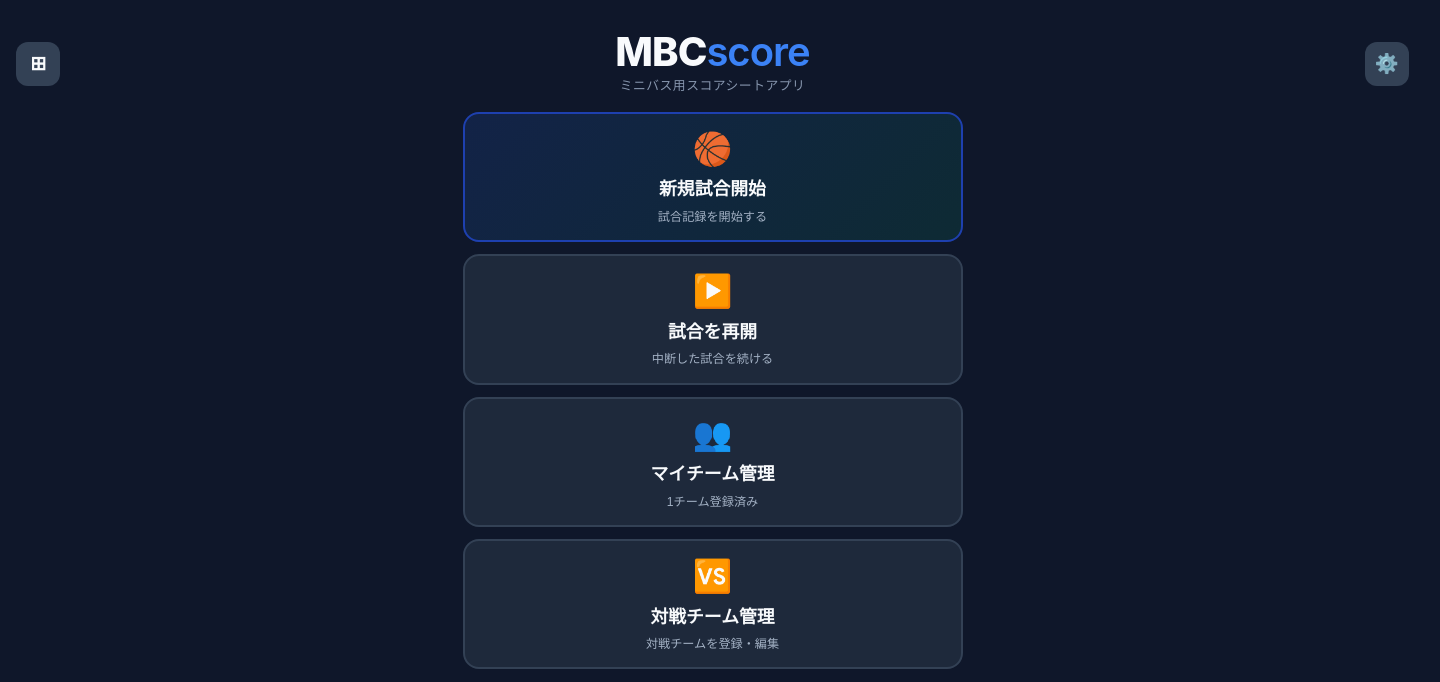
FT入力中の中断（App 通し） › ベンチファウルの入力からでも交代モーダルが上に重なる
This screenshot has width=1440, height=682.
Click the text "試合を再開": (713, 330) [668,317,757,343]
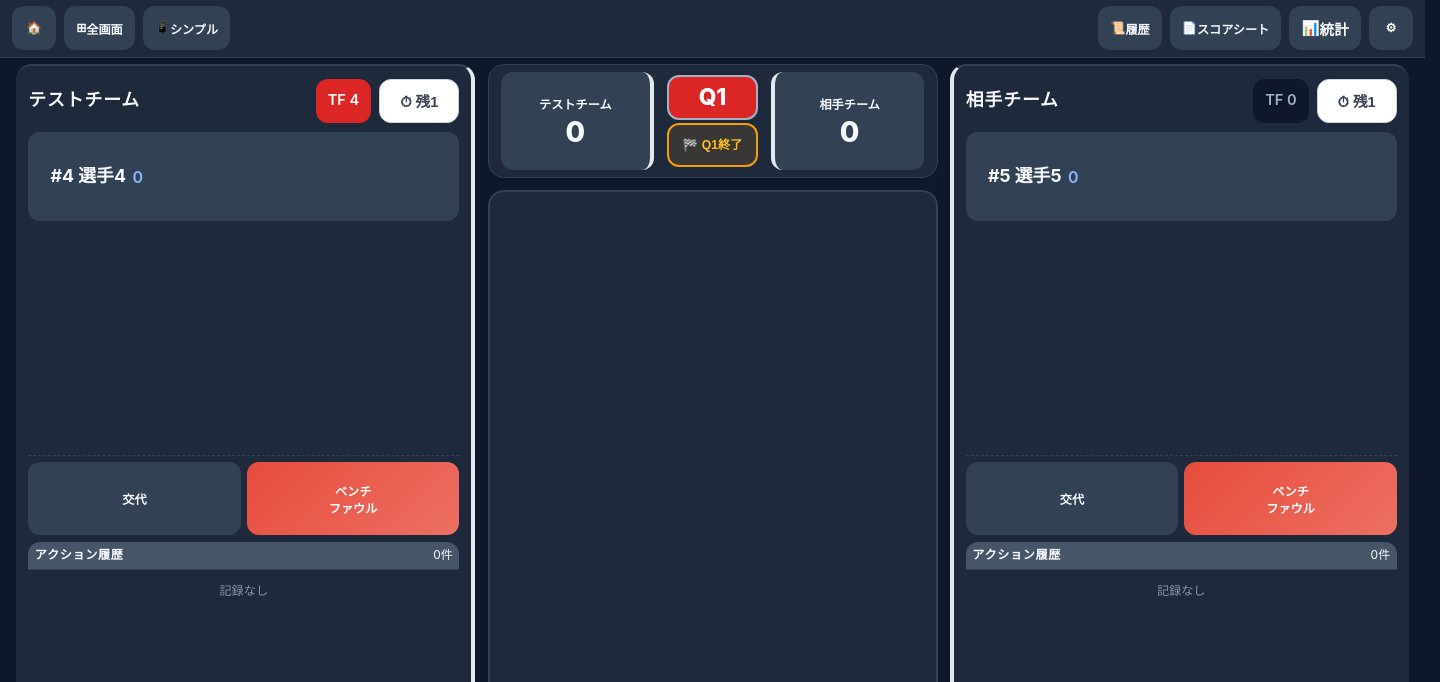
Click the 1st button "ベンチファウル": (353, 499) [247,462,459,535]
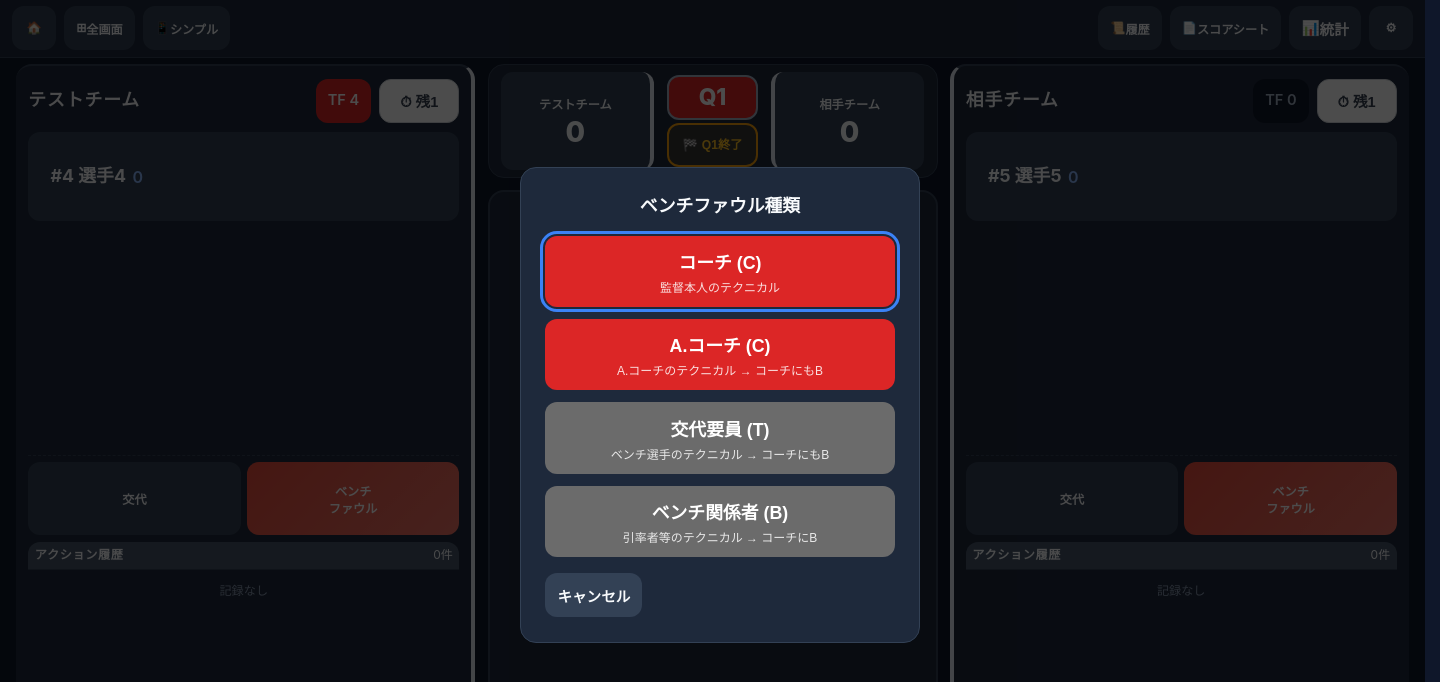
Click the button "コーチ (C) 監督本人のテクニカル": (720, 271) [545,236,895,307]
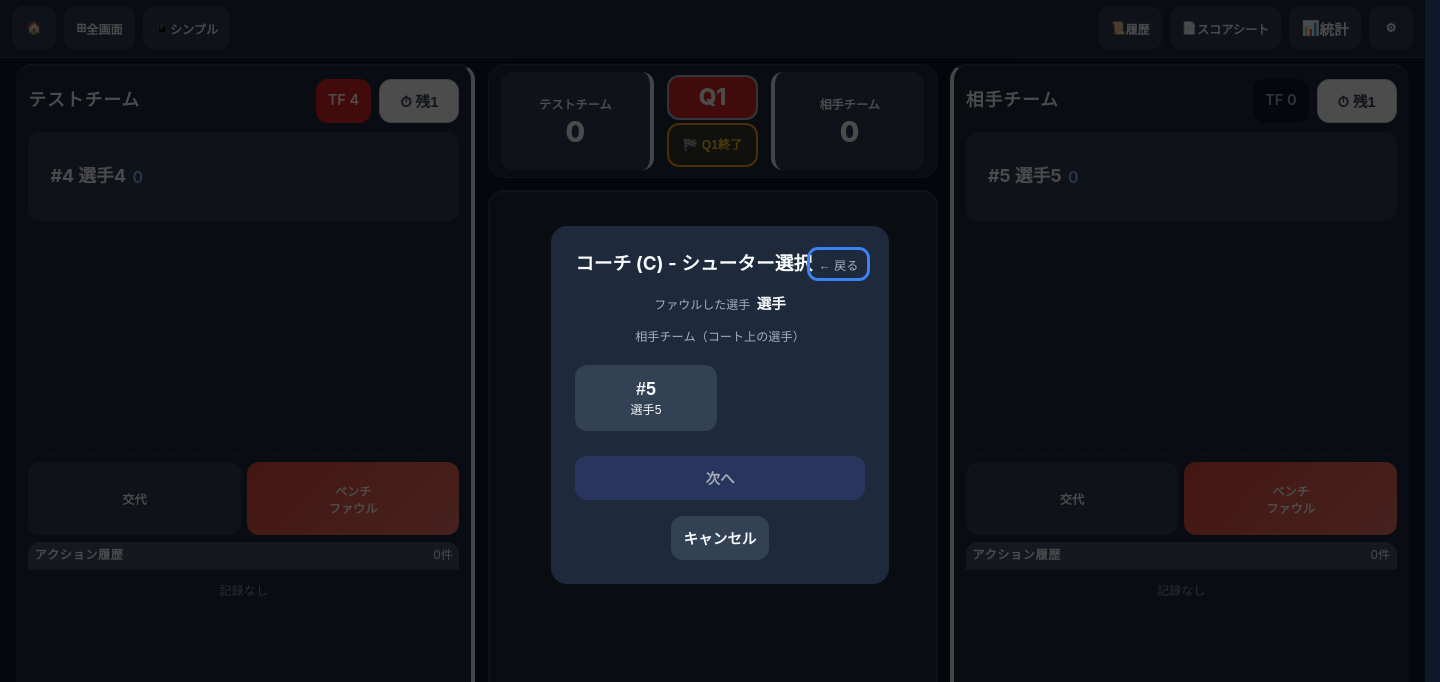
Click the text "選手5": (646, 409) [630,400,661,417]
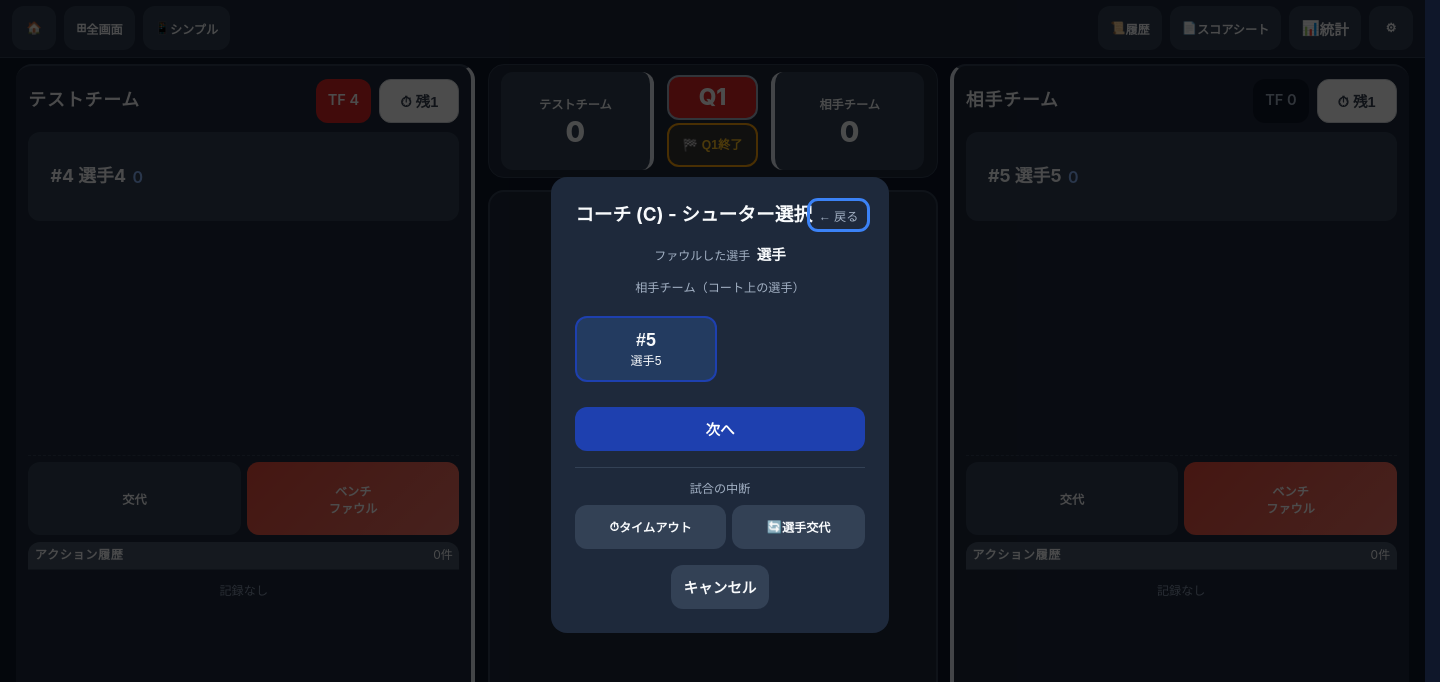
Now the text "試合の中断" is shown, box [690,481,750,496]
Click the button "🔄 選手交代": (799, 527) [732,505,865,549]
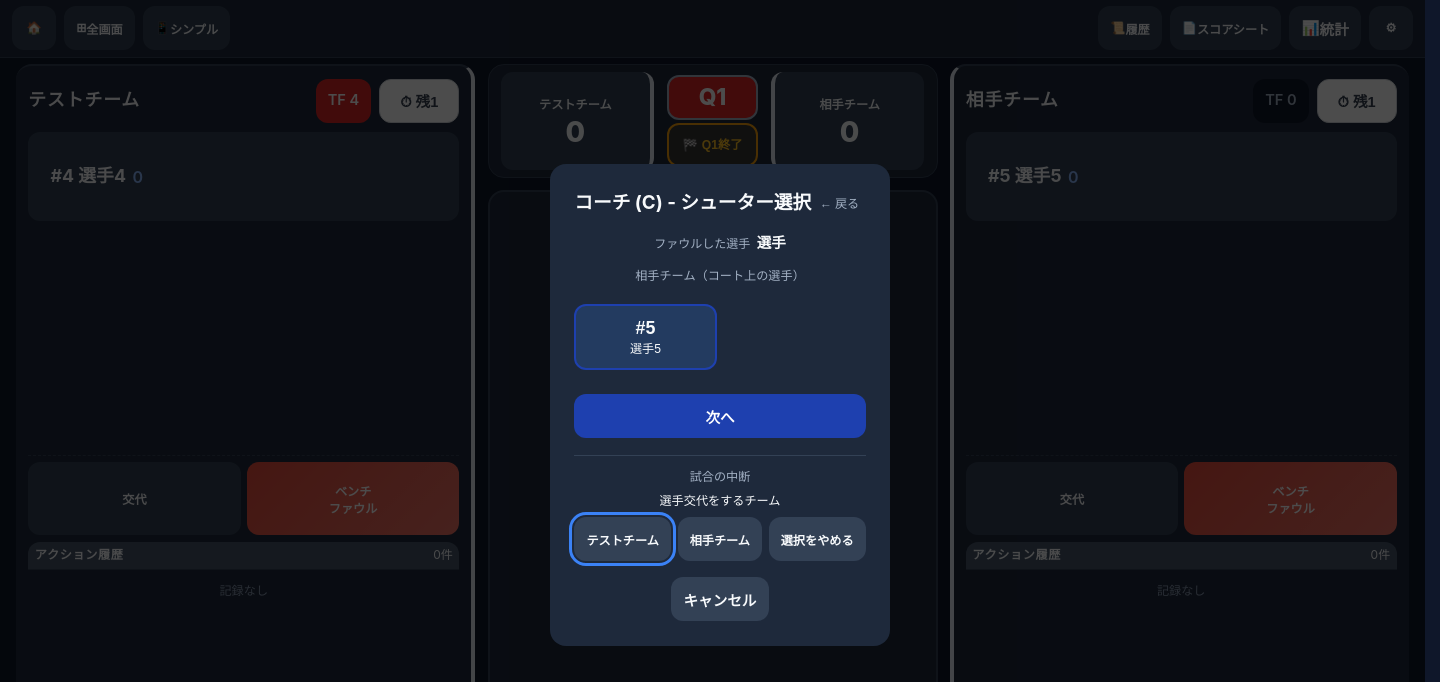
Click the button "相手チーム": (720, 539) [678,517,762,561]
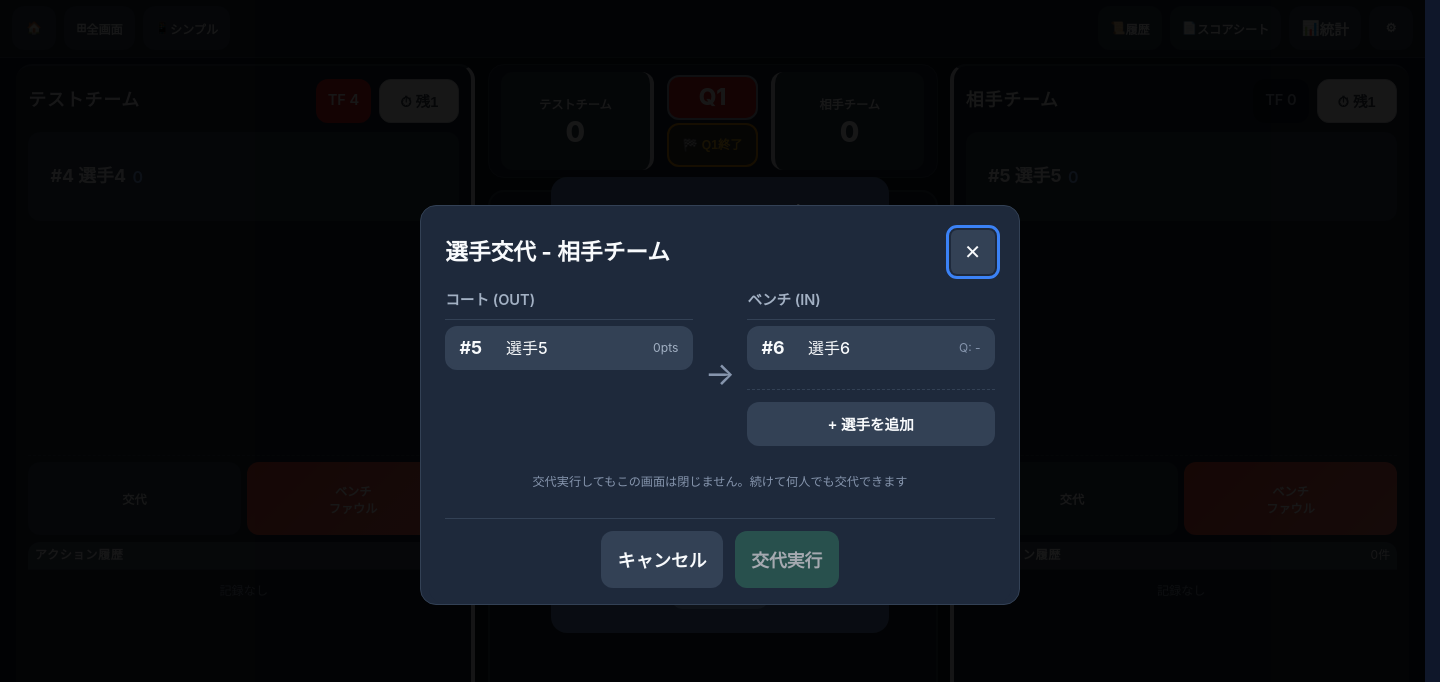
Now the dialog with class "substitution-modal" is shown, box [420,205,1020,605]
